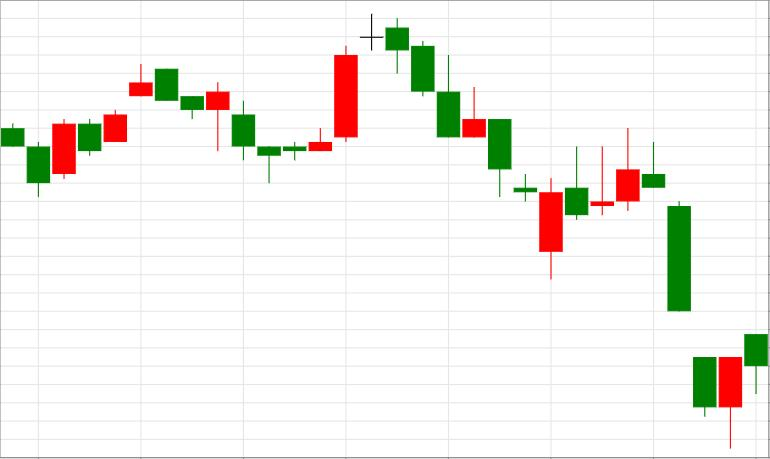bullish_engulfing_rise: (643, 143, 742, 449)
shooting_star_fall: (539, 128, 639, 279)
three_black_crows_fall: (257, 13, 460, 183)
